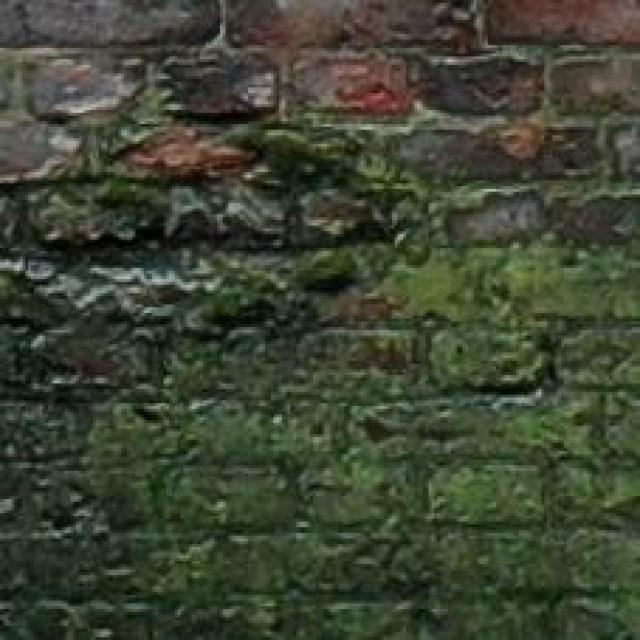Crack: (0, 0, 488, 557)
